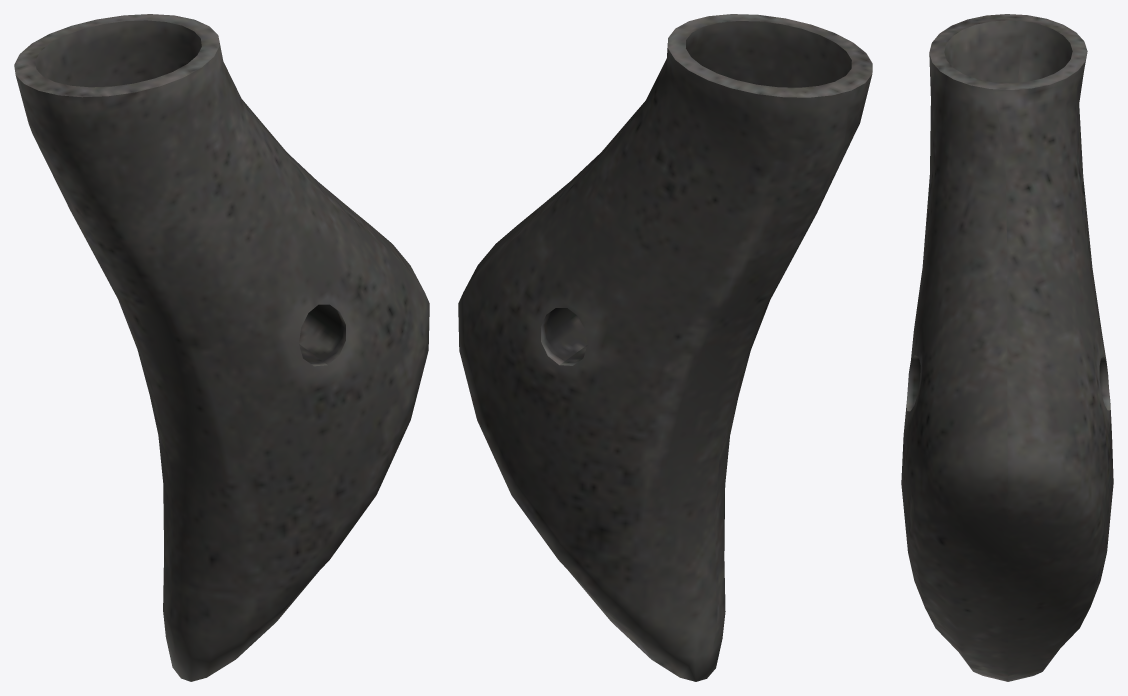
Rendered from wm_mordor_set1_sword_a02_pommel.fbx.
The picture shows the model from 3 angles, left to right: view 1: azimuth 30°, elevation 25°; view 2: azimuth 150°, elevation 25°; view 3: azimuth 270°, elevation 25°; orthographic projection. The views are drawn at different scales.
Visible parts, largest first — view 1: wm_mordor_set1_sword_a02_pommel; view 2: wm_mordor_set1_sword_a02_pommel; view 3: wm_mordor_set1_sword_a02_pommel.
Part boxes in pixels (x1,y1,x2,y2): wm_mordor_set1_sword_a02_pommel: (14, 14, 429, 681); wm_mordor_set1_sword_a02_pommel: (458, 14, 872, 681); wm_mordor_set1_sword_a02_pommel: (901, 14, 1113, 681).
Bounding box in the file's own units: 0.086 × 0.0429 × 0.1339.
Materials: 1 (1 with a texture image).
